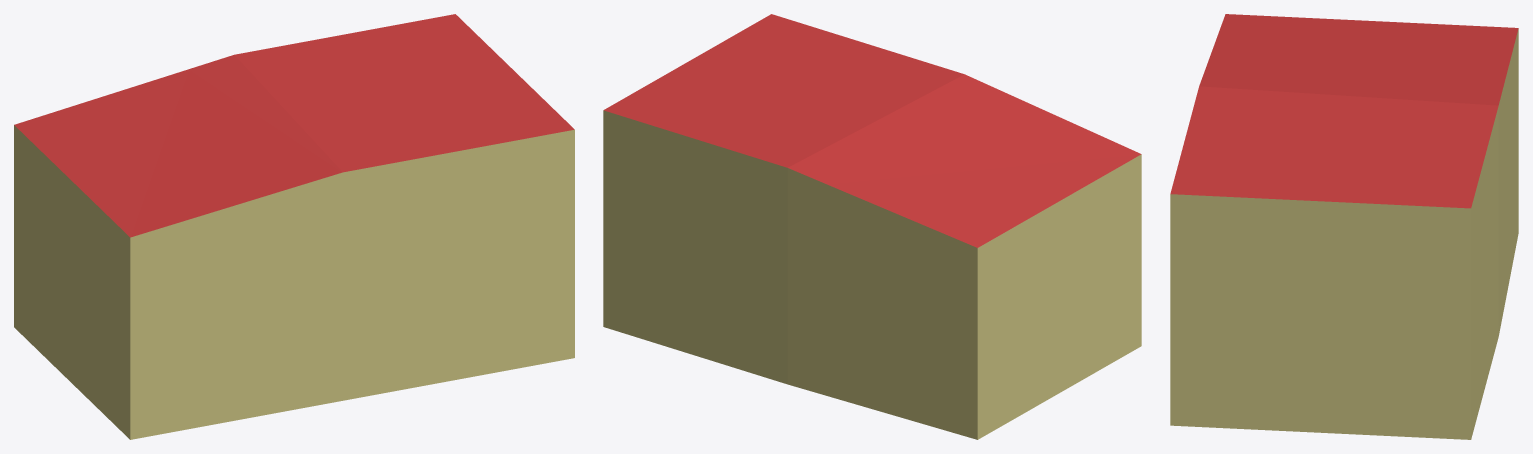
3 views of the same model, side by side, from view 1: azimuth 30°, elevation 25°; view 2: azimuth 150°, elevation 25°; view 3: azimuth 270°, elevation 25° (orthographic). The views are drawn at different scales.
Bounding box in the file's own units: 10.67 × 7.11 × 5.22.
